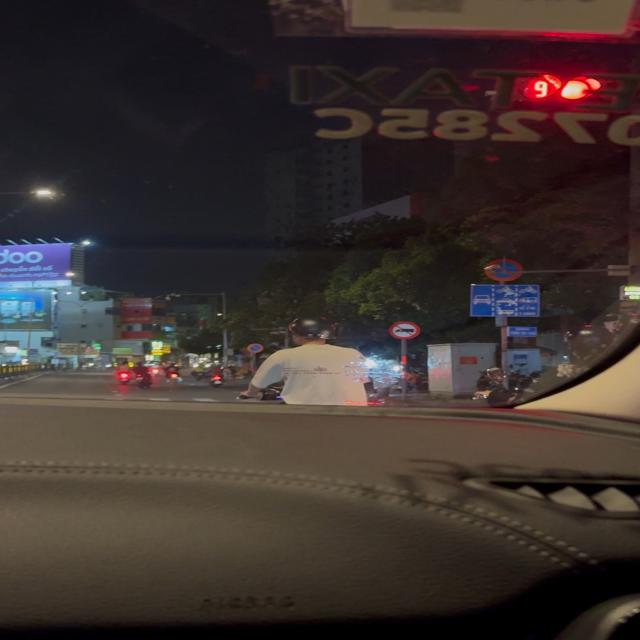Bien bao cam do xe: (246, 342, 266, 354)
Bien bao cam xe so-mi ro-mooc: (386, 321, 426, 341)
